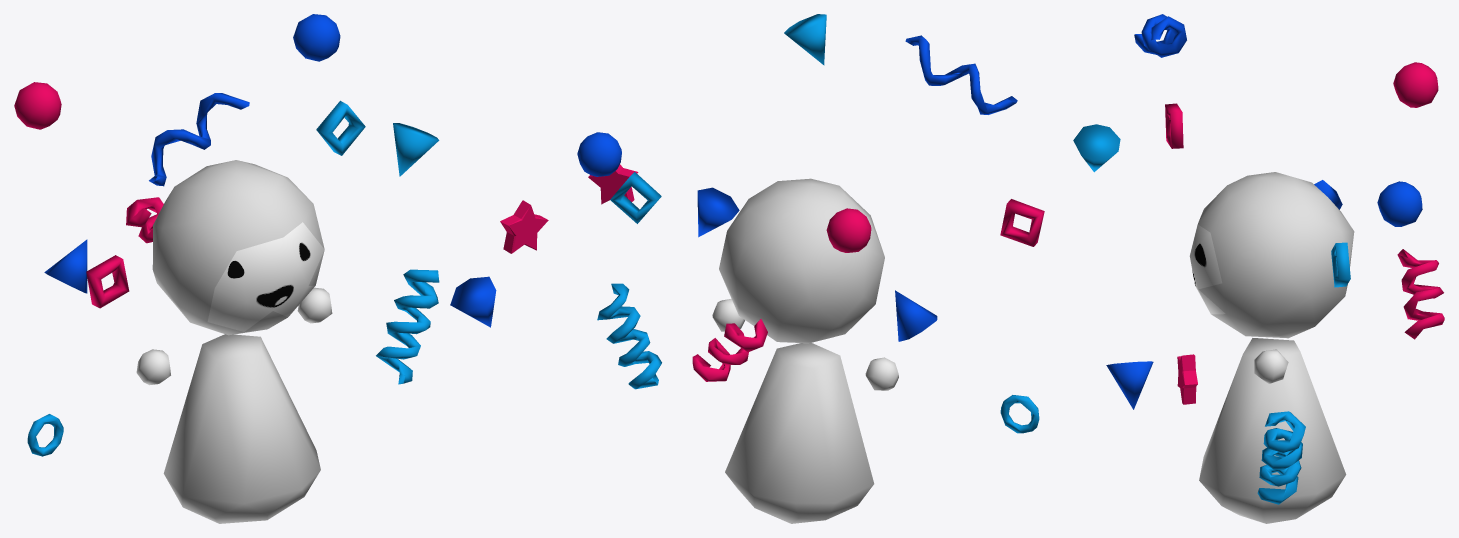
The model's file is icecream_avatar.glb.
3 renders of one model, left to right at view 1: azimuth 30°, elevation 25°; view 2: azimuth 150°, elevation 25°; view 3: azimuth 270°, elevation 25°, orthographic. The views are drawn at different scales.
Visible parts, largest first — view 1: Head, Sphere, Circle.001, Circle, Sphere.002, Sphere.001, Cone, Circle.002, Cube.003, Cube.002, Cone.001, Cone.002 (+4 smaller); view 2: Head, Sphere, Circle.001, Circle.003, Circle, Sphere.001, Sphere.002, Cone, Cube.003, Cone.001, Cone.002, Cube.002 (+4 smaller); view 3: Head, Sphere, Circle.001, Circle.003, Circle, Sphere.001, Sphere.002, Cone.001, Cone, Sphere.005, Circle.002, Cube.003 (+1 smaller).
Boxes of the visible parts, x1,y1,x2,y2 form: Head: (152, 160, 324, 335); Sphere: (163, 334, 320, 523); Circle.001: (376, 269, 439, 384); Circle: (149, 93, 249, 186); Sphere.002: (14, 82, 61, 129); Sphere.001: (293, 14, 340, 61); Cone: (450, 276, 496, 327); Circle.002: (500, 200, 548, 253); Cube.003: (86, 255, 129, 308); Cube.002: (316, 100, 365, 155); Cone.001: (393, 123, 439, 176); Cone.002: (44, 239, 87, 293); Head: (719, 178, 884, 343); Sphere: (725, 342, 874, 523); Circle.001: (597, 283, 661, 389); Circle.003: (692, 319, 767, 381); Circle: (905, 35, 1017, 114); Sphere.001: (577, 132, 621, 176); Sphere.002: (826, 208, 871, 252); Cone: (697, 187, 739, 237); Cube.003: (1000, 199, 1044, 246); Cone.001: (784, 14, 826, 65); Cone.002: (895, 290, 937, 341); Cube.002: (610, 172, 661, 223); Head: (1189, 172, 1354, 338); Sphere: (1199, 338, 1346, 523); Circle.001: (1257, 411, 1305, 504); Circle.003: (1397, 249, 1444, 339); Circle: (1134, 14, 1186, 57); Sphere.001: (1377, 181, 1422, 226); Sphere.002: (1393, 62, 1438, 107); Cone.001: (1073, 124, 1120, 172); Cone: (1106, 361, 1153, 409); Sphere.005: (1254, 349, 1288, 383); Circle.002: (1177, 354, 1197, 404); Cube.003: (1165, 103, 1183, 148).
Bounding box in the file's own units: 3.44 × 3.2 × 2.32.
7 materials, 1 textured.
